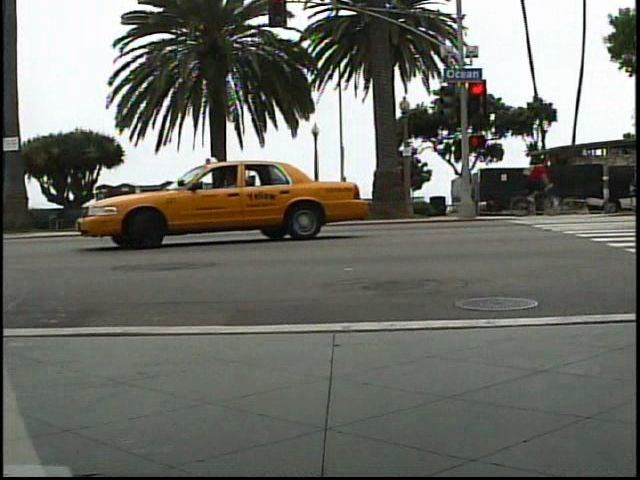person: (519, 154, 547, 208)
